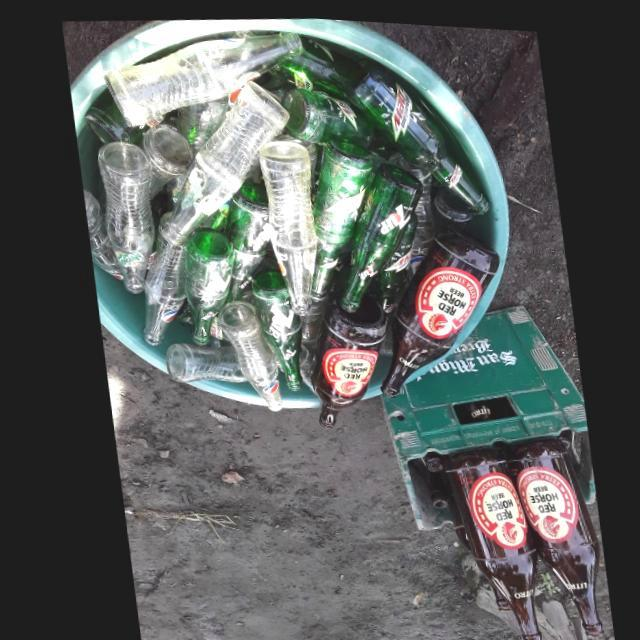glass_bottle: (156, 77, 288, 242), (375, 226, 496, 392), (352, 60, 486, 207), (102, 27, 303, 125), (439, 443, 535, 638), (501, 430, 595, 629), (335, 157, 420, 307), (305, 290, 383, 424), (307, 135, 371, 296), (257, 136, 313, 311), (95, 139, 151, 291), (213, 297, 277, 408), (278, 84, 387, 146), (248, 265, 298, 387), (386, 147, 431, 277), (181, 224, 230, 341), (220, 177, 267, 298), (367, 206, 415, 313), (139, 233, 183, 343), (136, 121, 191, 197), (80, 185, 119, 277), (161, 340, 242, 380)
